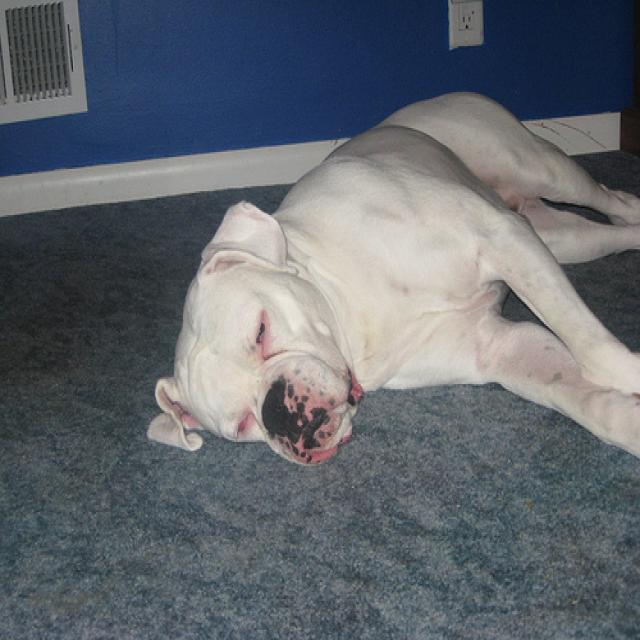dog-boxer: (141, 82, 637, 468)
